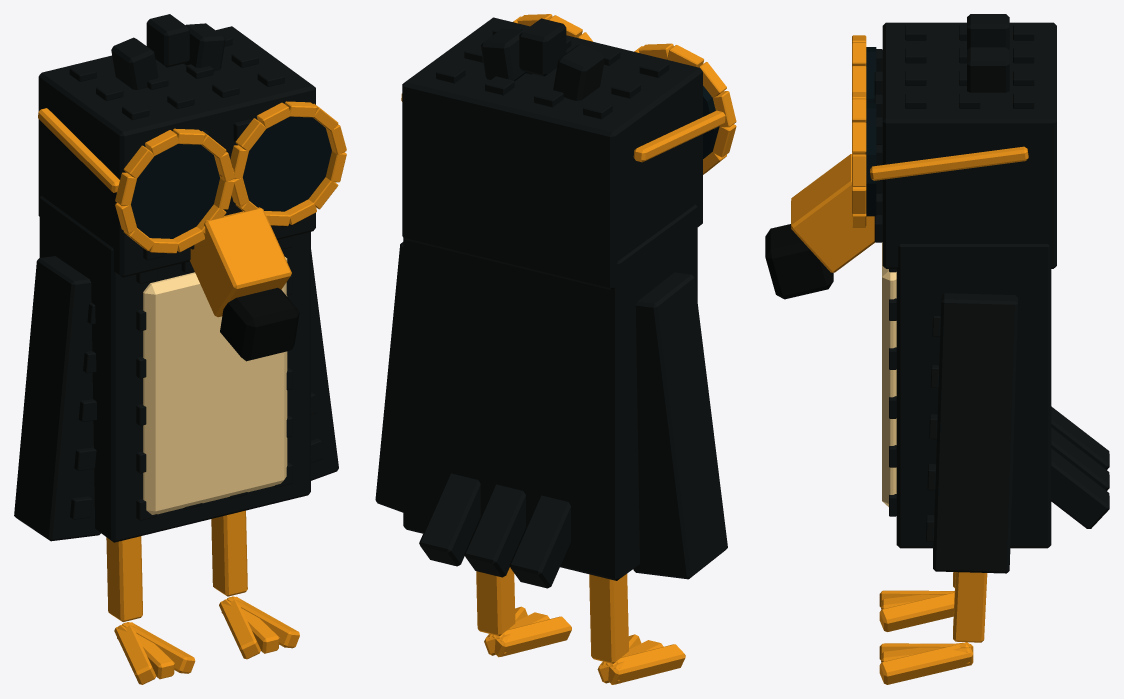
File: Fluriflura.glb
3 renders of one model, left to right at view 1: azimuth 30°, elevation 25°; view 2: azimuth 150°, elevation 25°; view 3: azimuth 270°, elevation 25°, orthographic. The views are drawn at different scales.
Parts seen in each view (by area): view 1: Fluriflura; view 2: Fluriflura; view 3: Fluriflura.
Boxes of the visible parts, bbox=[...] form: Fluriflura: bbox=[14, 14, 346, 684]; Fluriflura: bbox=[375, 14, 736, 684]; Fluriflura: bbox=[765, 14, 1109, 684].
Bounding box in the file's own units: 2.5 × 5 × 2.48.
Materials: 1 (1 with a texture image).
